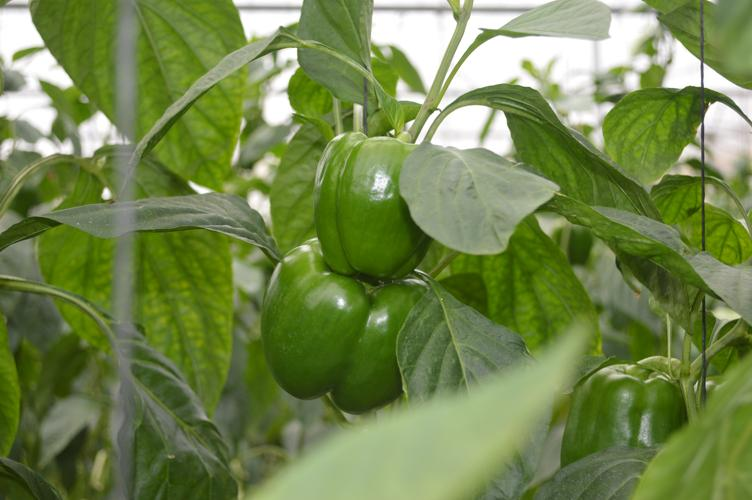BellPepper: (263, 240, 415, 413), (312, 131, 429, 281), (560, 361, 697, 458)
